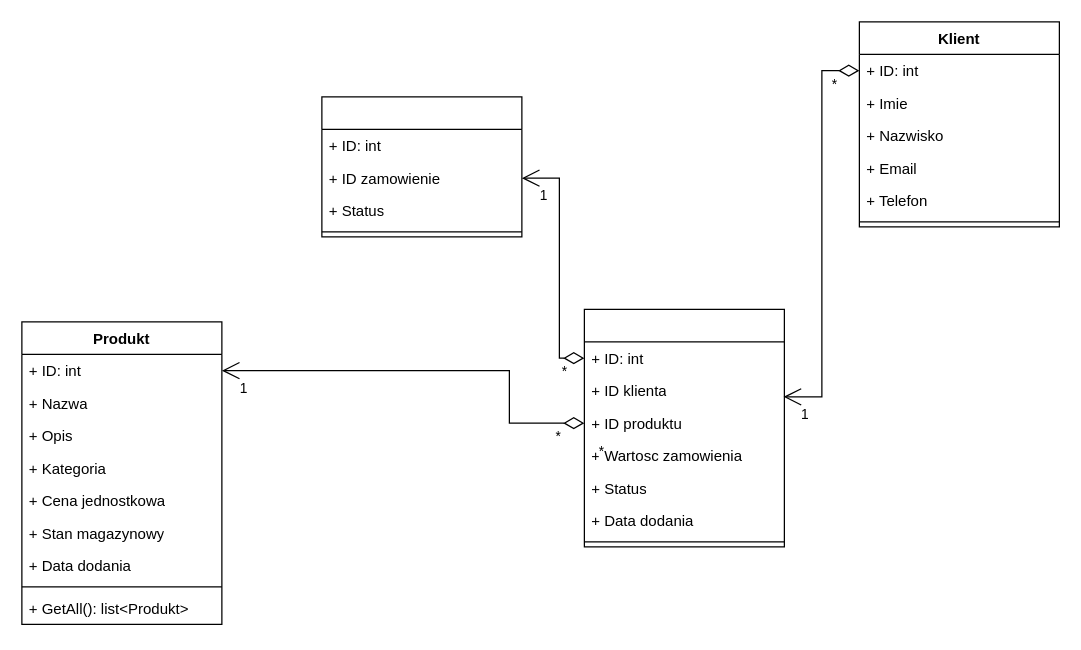
Some shapes in this 1081 by 650 pixel diagram are drawn without their labels. The shapes that lost their labels are listed below. From the top down, each one's box as (x1, y1, x2, y2) in pixels, then its label:
(321, 96, 522, 237): Koszyk
(583, 308, 784, 547): Zamówienie
